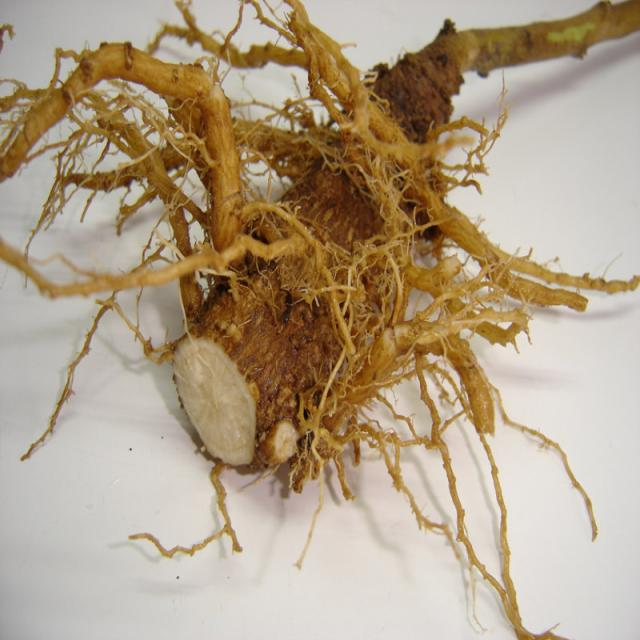Belladonna: (52, 34, 567, 488)
